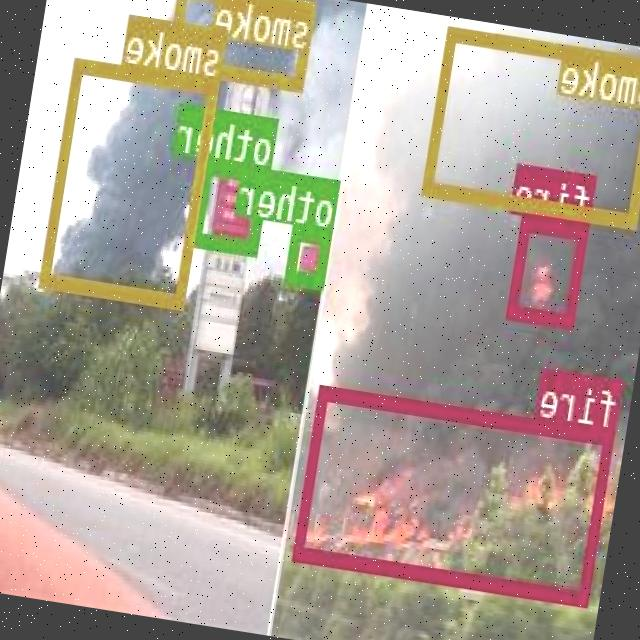fire: (294, 384, 618, 604), (508, 215, 592, 328)
smoke: (41, 58, 222, 307), (425, 25, 640, 226), (170, 0, 318, 90)
